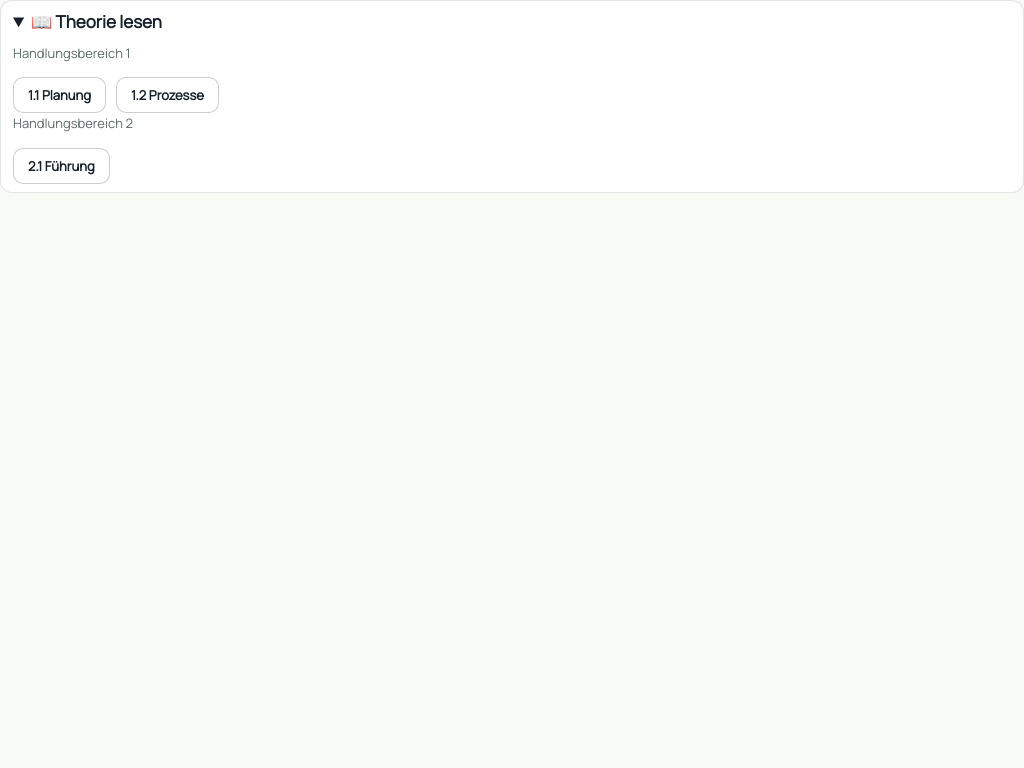
Test: TheorieEinstieg (Review UXT-B-04, UXT-I-16) › zeigt aufgeklappt die Themen nach Fachgebieten und öffnet beim Klick das Lesefenster mit der Theorie
This screenshot has width=1024, height=768.
expect the text "Handlungsbereich 1" is shown: met, box [13,44,131,62]
expect the button "2.1 Führung" is shown: met, box [13,148,110,184]
Click the button "1.1 Planung". click: [59, 96]
box: [13,78,106,114]
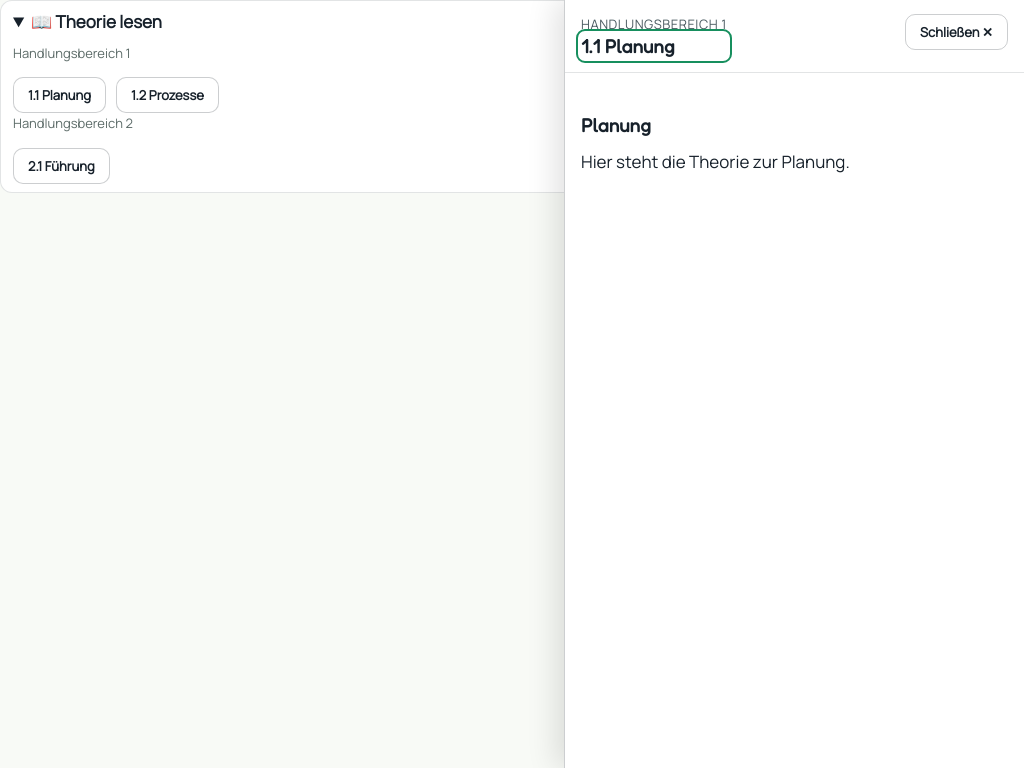
expect the element named "Theorie: 1.1 Planung" is shown: met, box [564,0,1023,767]
expect the text "Hier steht die Theorie zur Planung." is shown: met, box [581,150,850,173]
